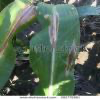Corn leaf blight: (30, 2, 78, 94), (0, 5, 36, 82)
